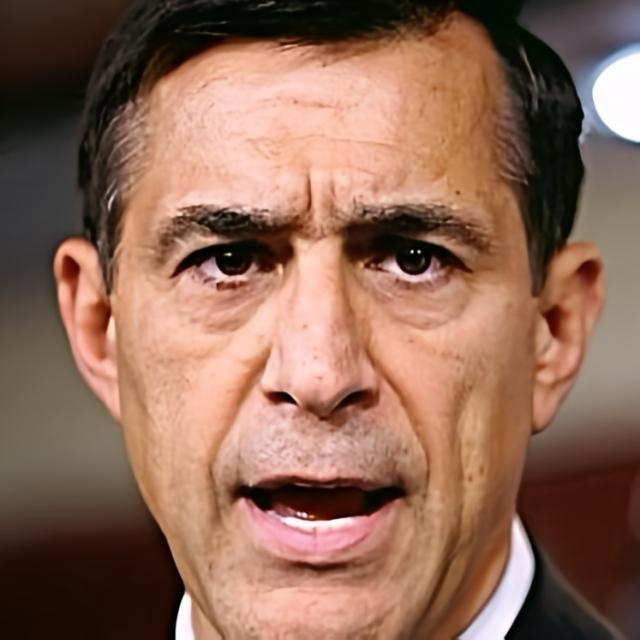anger: (114, 58, 536, 640)
